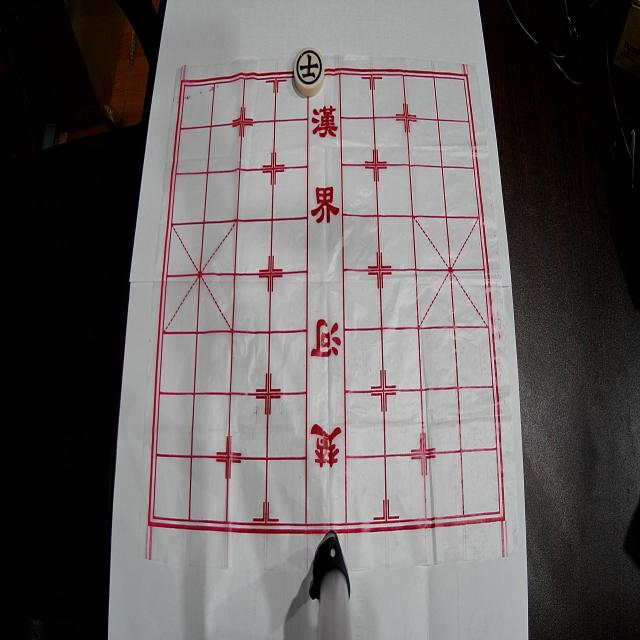black-guard: (294, 48, 324, 96)
